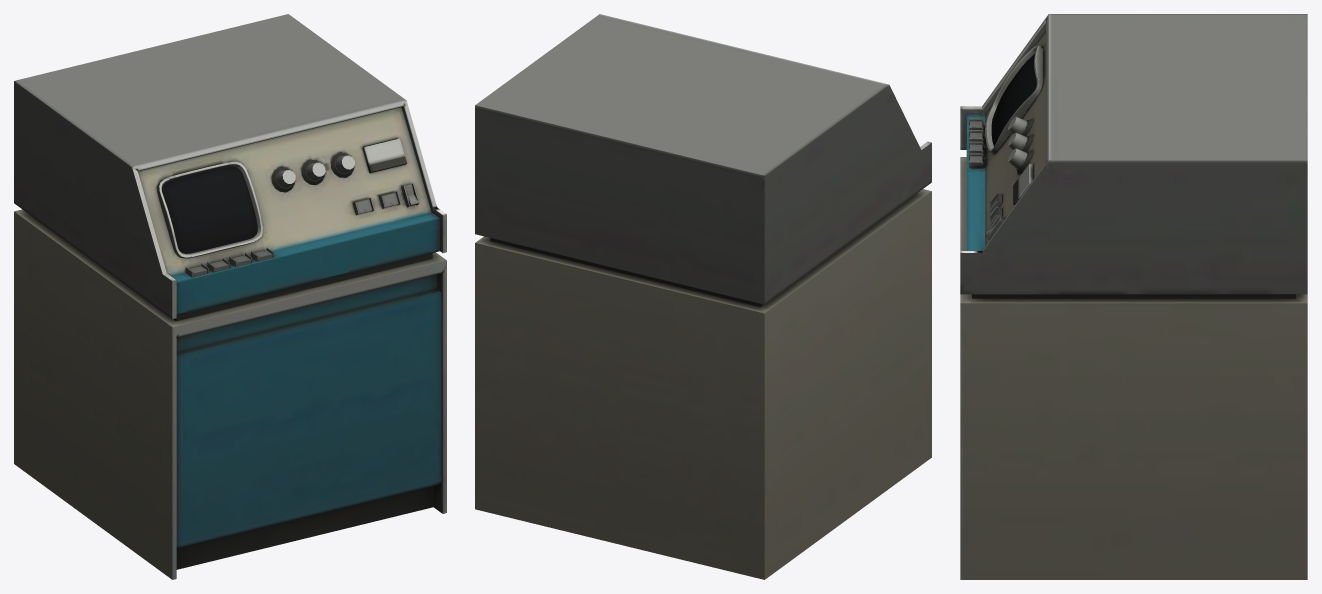
3 views of the same model, side by side, from view 1: azimuth 30°, elevation 25°; view 2: azimuth 150°, elevation 25°; view 3: azimuth 270°, elevation 25° (orthographic). The views are drawn at different scales.
Visible parts, largest first — view 1: body0_model0_lod0_mesh0; view 2: body0_model0_lod0_mesh0; view 3: body0_model0_lod0_mesh0.
Part boxes in pixels (bbox=[...]): body0_model0_lod0_mesh0: bbox=[14, 14, 446, 579]; body0_model0_lod0_mesh0: bbox=[475, 14, 931, 579]; body0_model0_lod0_mesh0: bbox=[960, 14, 1307, 579].
Size of the model in its own units: 48 by 64 by 48.
1 material, 1 textured.
